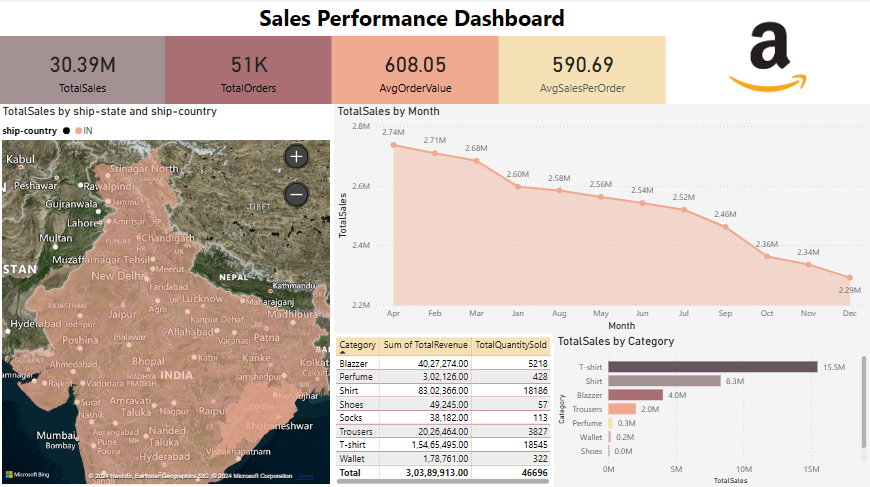

The dashboard page shown, as its layout file describes it:
{"tool":"powerbi","page":{"name":" Dashboard 1","canvas":[1280,720],"ordinal":0},"visuals":[{"type":"textbox","box":[174.9,1.5,856.7,54.4],"z":0},{"type":"card","fields":{"Values":["Amazon Sale Report (2).TotalSales"]},"box":[0,55.8,245.4,99.9],"z":1000},{"type":"card","fields":{"Values":["Amazon Sale Report (2).TotalOrders"]},"box":[243.9,55.8,245.4,99.9],"z":2000},{"type":"card","fields":{"Values":["Amazon Sale Report (2).AvgOrderValue"]},"box":[489.3,55.8,245,99.9],"z":3000},{"type":"tableEx","fields":{"Values":["Amazon Sale Report (2).Category","Sum(Amazon Sale Report (2).TotalRevenue)","Amazon Sale Report (2).TotalQuantitySold"]},"box":[489.3,493.7,326.2,226.3],"z":4000},{"type":"clusteredBarChart","fields":{"Category":["Amazon Sale Report (2).Category"],"Y":["Amazon Sale Report (2).TotalSales"]},"box":[815.5,493.7,464.3,226.3],"z":5000},{"type":"filledMap","fields":{"Category":["Amazon Sale Report (2).ship-state"],"Series":["Amazon Sale Report (2).ship-country"]},"box":[0,155.8,492.2,564.2],"z":6000},{"type":"lineChart","fields":{"Category":["Amazon Sale Report (2).Month"],"Y":["Amazon Sale Report (2).TotalSales"]},"box":[492.2,155.8,787.6,338],"z":7000},{"type":"card","fields":{"Values":["Amazon Sale Report (2).AvgSalesPerOrder"]},"box":[734.7,55.8,245.4,99.9],"z":8000},{"type":"image","box":[980.1,17.6,299.8,138.1],"z":9000}]}

Visuals, with their boxes in screenshot pixels (x1, y1, x2, y2), scaled from the page's 1280x720 canvas onto the 870x487 screenshot:
textbox: (119, 1, 701, 38)
card - Amazon Sale Report (2).TotalSales: (0, 38, 167, 105)
card - Amazon Sale Report (2).TotalOrders: (166, 38, 333, 105)
card - Amazon Sale Report (2).AvgOrderValue: (333, 38, 499, 105)
tableEx - Amazon Sale Report (2).Category x Sum(Amazon Sale Report (2).TotalRevenue): (333, 334, 554, 486)
clusteredBarChart - Amazon Sale Report (2).Category x Amazon Sale Report (2).TotalSales: (554, 334, 869, 486)
filledMap - Amazon Sale Report (2).ship-state x Amazon Sale Report (2).ship-country: (0, 105, 335, 486)
lineChart - Amazon Sale Report (2).Month x Amazon Sale Report (2).TotalSales: (335, 105, 869, 334)
card - Amazon Sale Report (2).AvgSalesPerOrder: (499, 38, 666, 105)
image: (666, 12, 869, 105)
